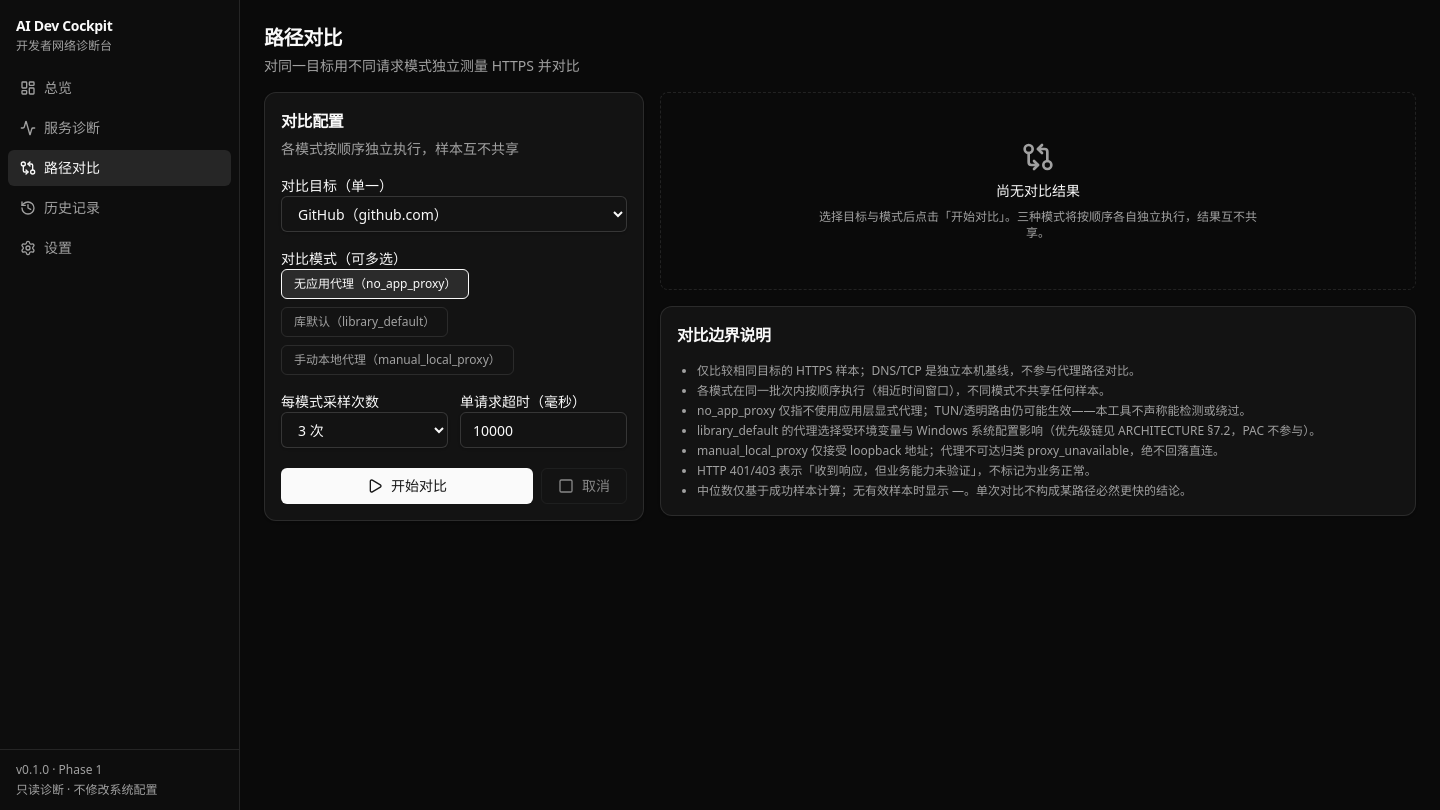
Test case: 路径对比页（真实模式） › 未选择模式时提示校验错误
# 取消唯一默认选中的模式
Click the button "无应用代理（no_app_proxy）": {"x": 375, "y": 284} top-left (281, 269), bottom-right (469, 299)
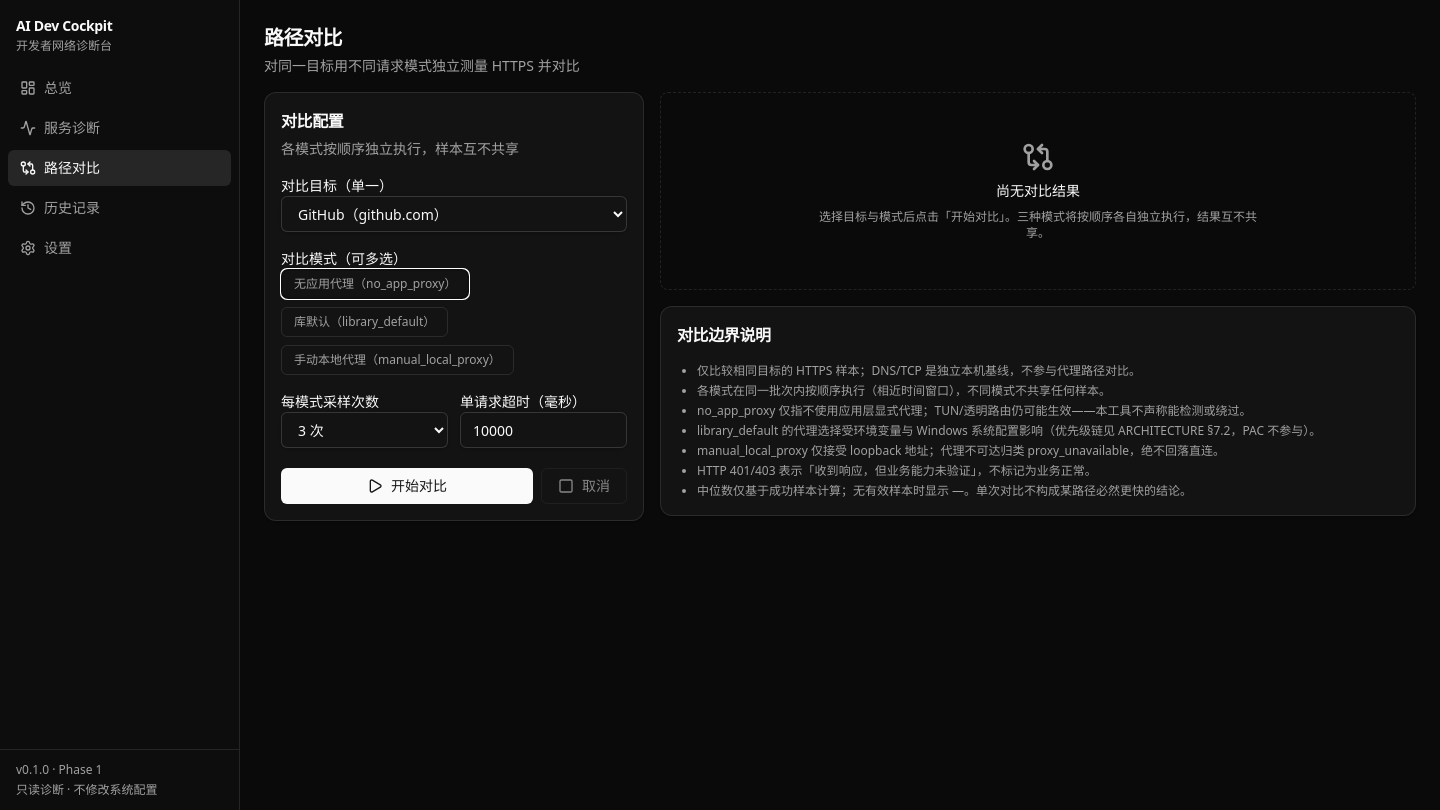
Click the button "开始对比": {"x": 407, "y": 486} top-left (281, 468), bottom-right (533, 504)
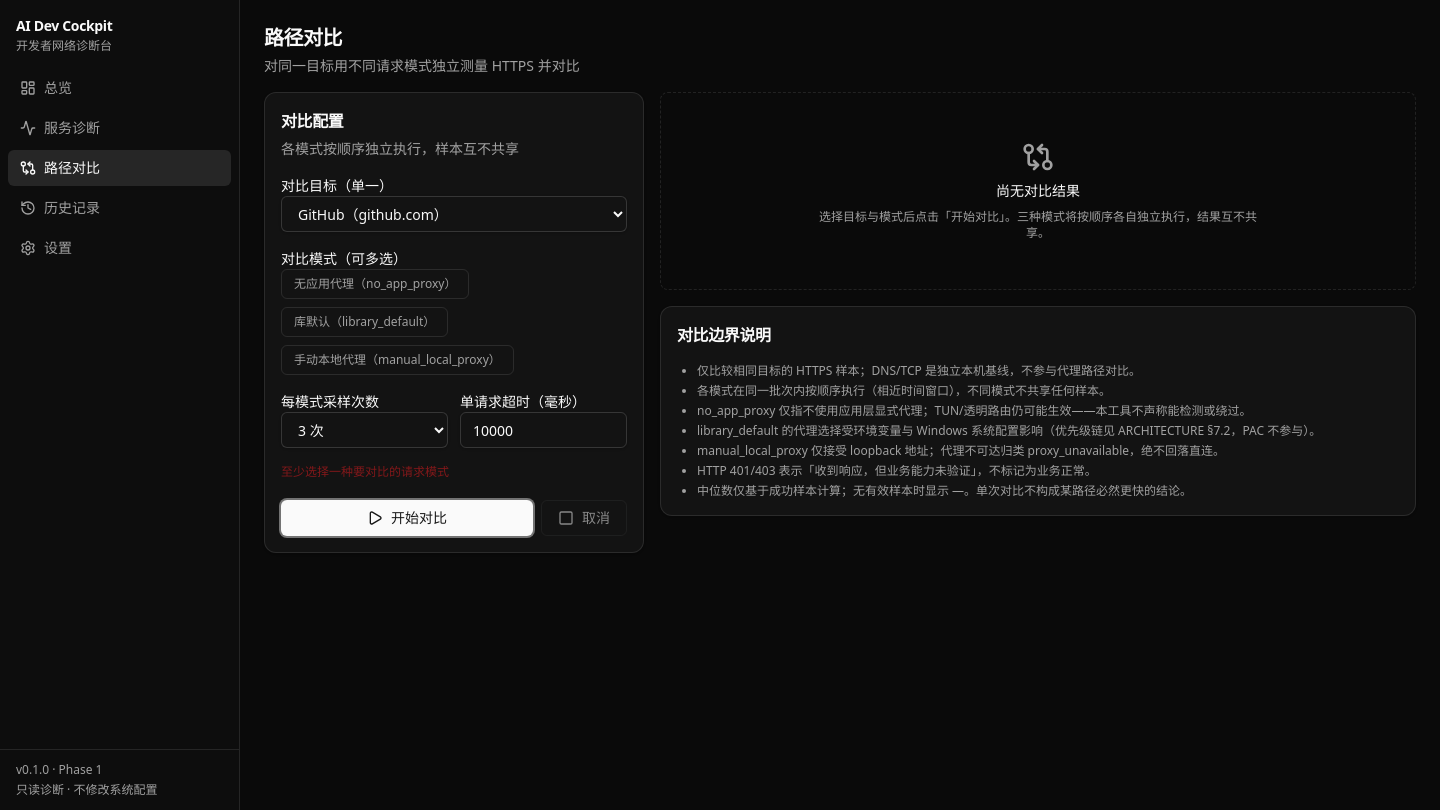
Expected: the text "至少选择一种要对比的请求模式" is shown, top-left (281, 463), bottom-right (449, 480)
